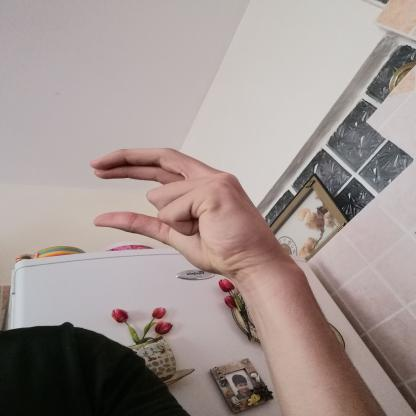DHELL: (78, 138, 286, 282)
